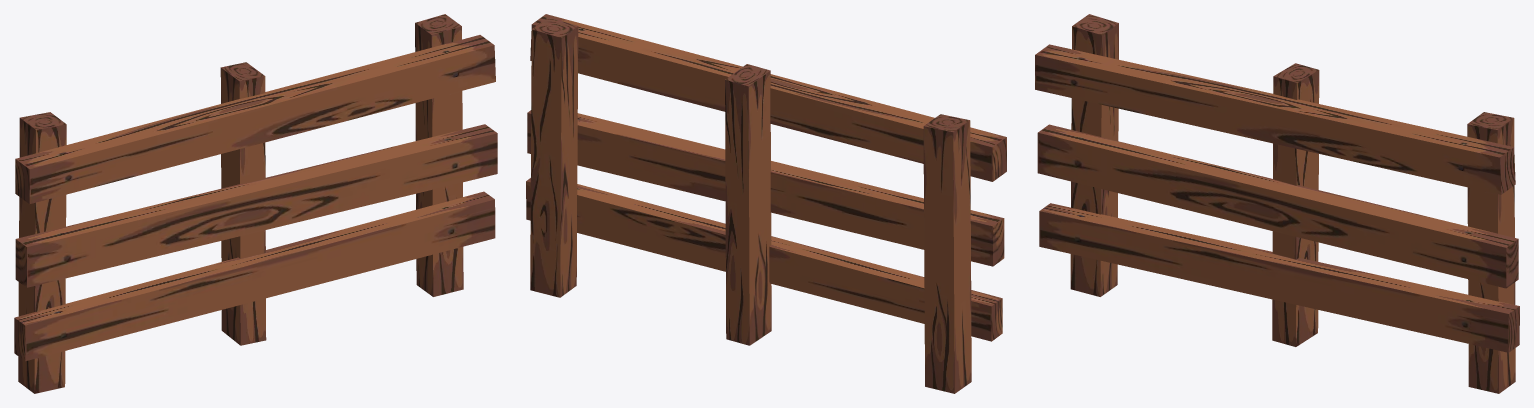
The model's file is farm_fence_02.glb.
The picture shows the model from 3 angles, left to right: view 1: azimuth 30°, elevation 25°; view 2: azimuth 150°, elevation 25°; view 3: azimuth 330°, elevation 25°; orthographic projection.
Visible parts, largest first — view 1: farm:fence_02; view 2: farm:fence_02; view 3: farm:fence_02.
Part boxes in pixels (box(x1,y1,x2,y2)): farm:fence_02: box(14, 14, 497, 393); farm:fence_02: box(526, 14, 1006, 393); farm:fence_02: box(1035, 14, 1519, 393).
Bounding box in the file's own units: 1.66 × 0.8896 × 0.2121.
Materials: 1 (1 with a texture image).
